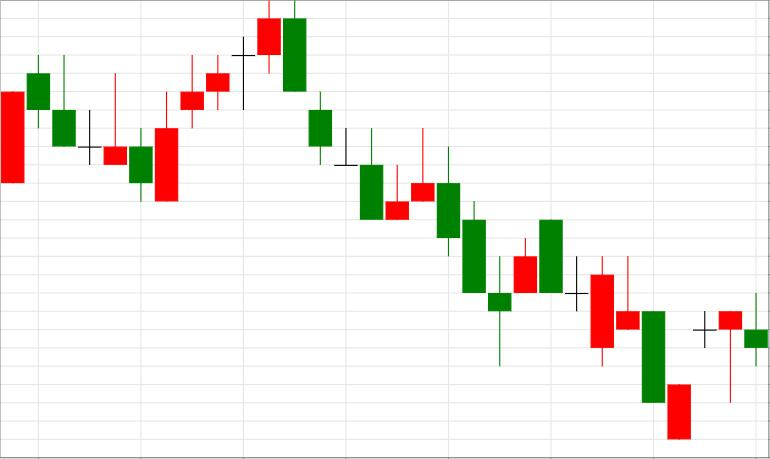bearish_engulfing_fall: (155, 1, 307, 202)
bullish_engulfing_rise: (27, 54, 178, 203)
morning_star_rise: (411, 129, 537, 366)
